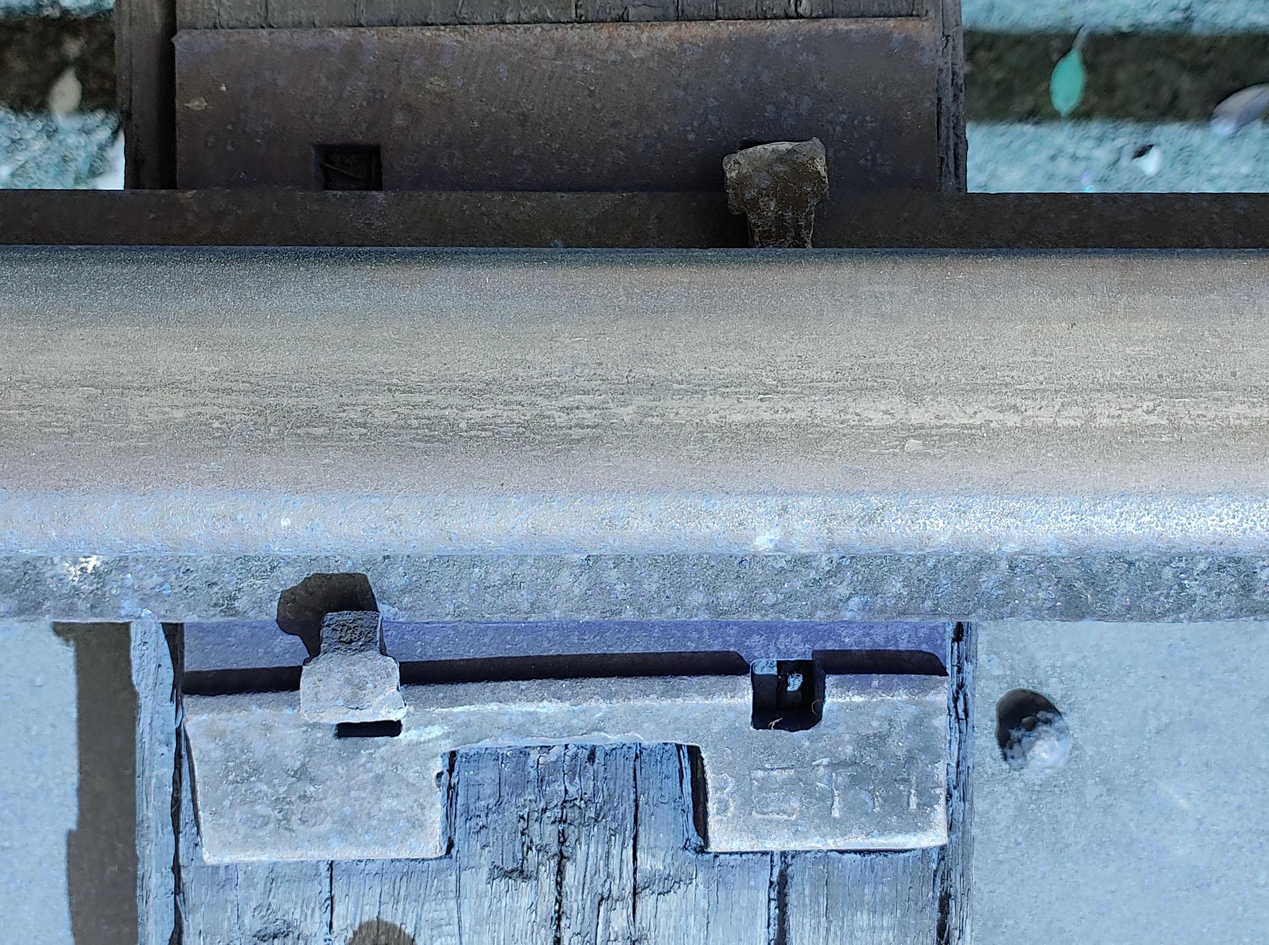loss2: (307, 118, 421, 211), (747, 646, 849, 743)
